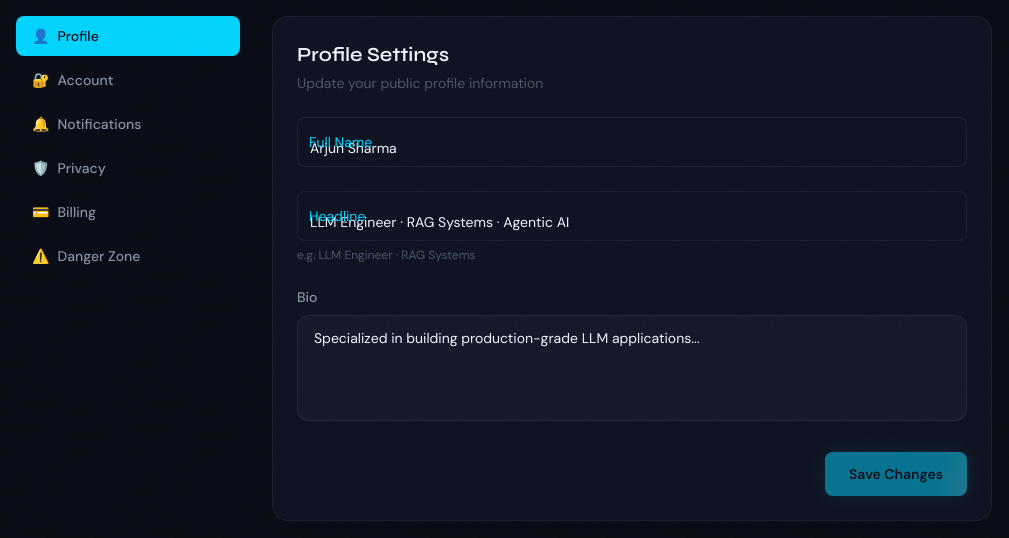
Test: Module 7: Payments, Analytics & Settings › Settings › toggles privacy settings
Click the button "🛡️ Privacy": (128, 168) [16,148,240,188]
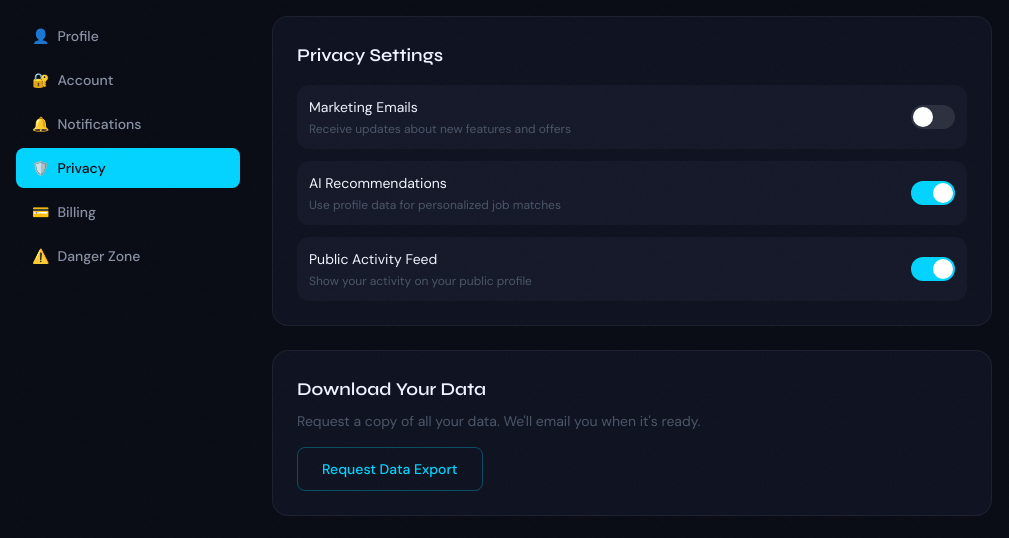
Result: the heading "Privacy Settings" is shown at [297,44,443,66]
Result: the text "Marketing Emails" is shown at [309,98,418,116]
Result: the text "AI Recommendations" is shown at [309,174,447,192]
